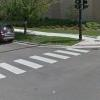Crosswalk: (5, 47, 89, 79)
